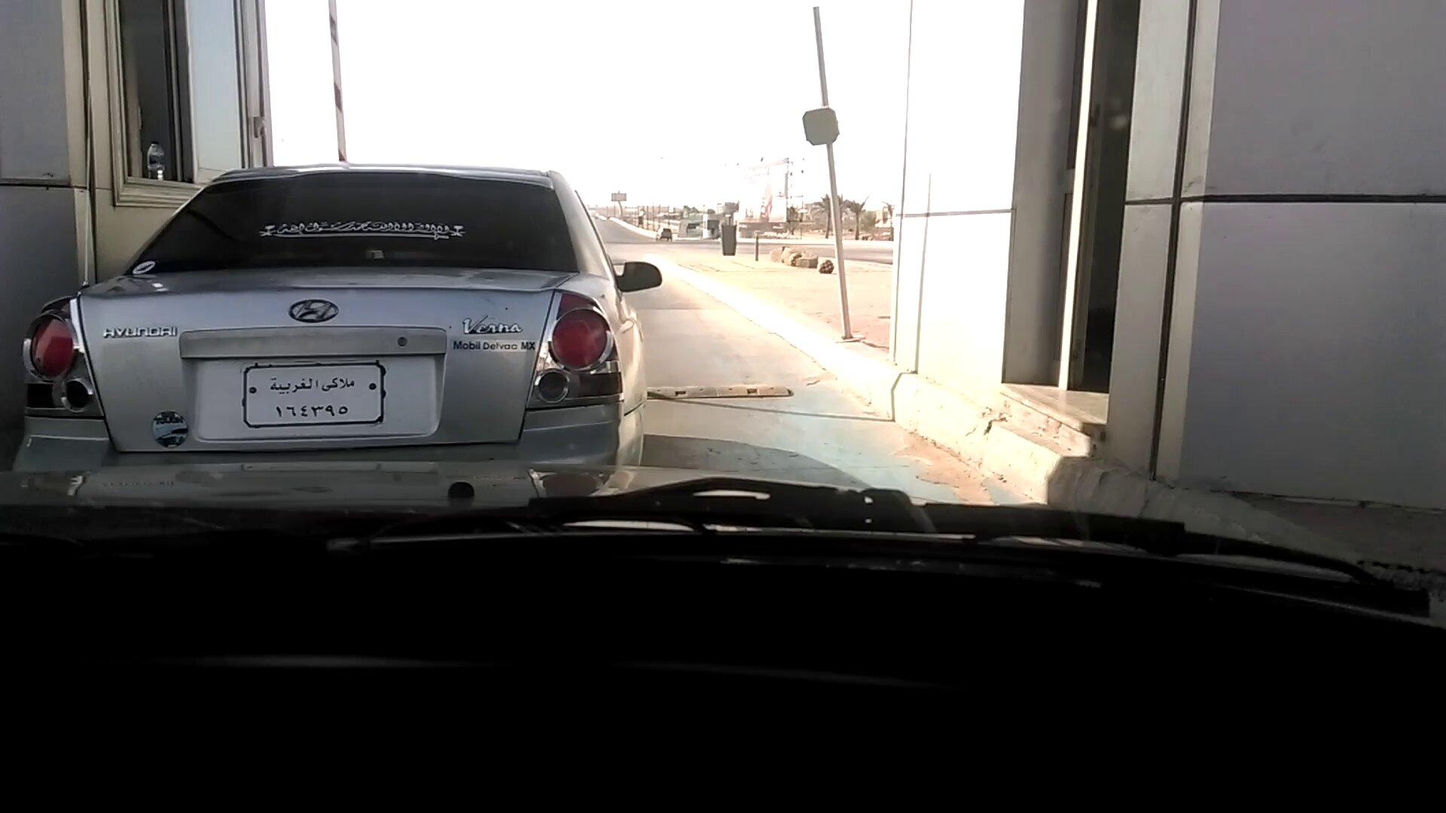Bump: (642, 378, 804, 397)
